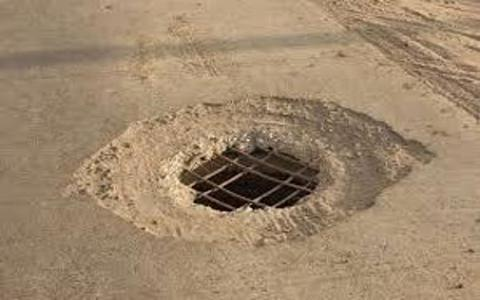open manhole: (168, 130, 330, 222)
